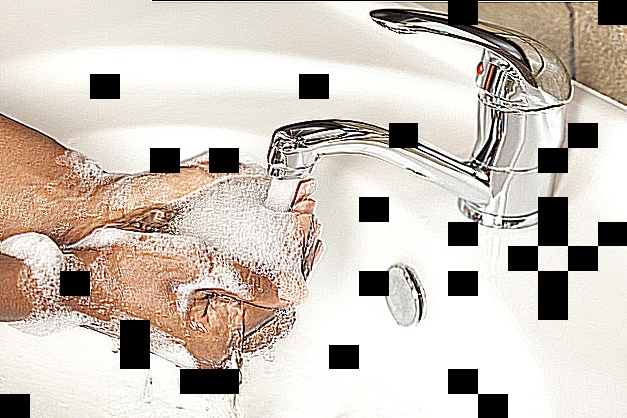washing hand: (0, 11, 506, 405)
